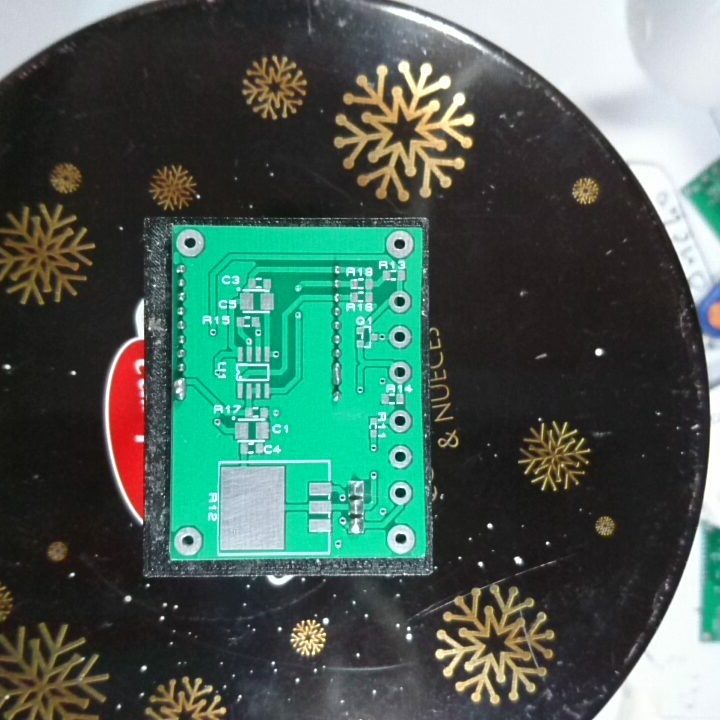F: (171, 525, 205, 558), (385, 523, 417, 555), (174, 227, 207, 258), (383, 230, 417, 259), (385, 406, 415, 437), (386, 443, 417, 472), (386, 322, 415, 350), (388, 479, 415, 507), (388, 289, 414, 315), (388, 359, 414, 385)
P: (330, 358, 346, 389), (171, 375, 188, 403)
